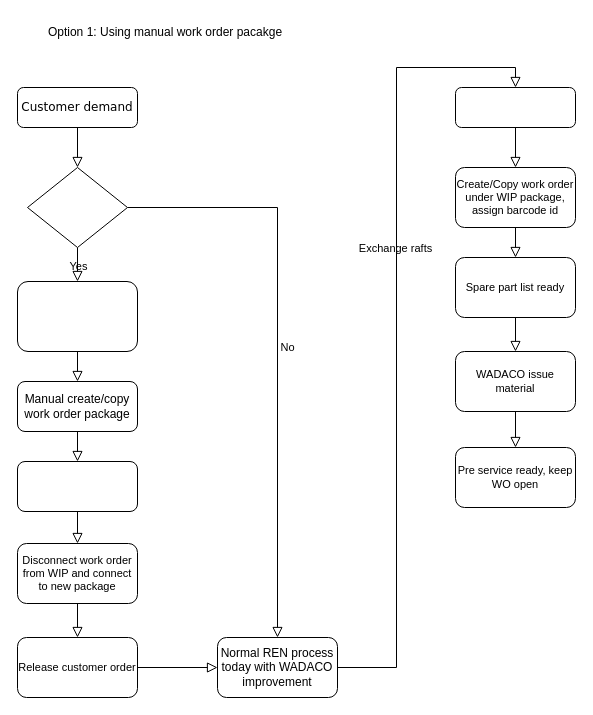
This 593x715 diagram has some shape labels left out. Here are the shapes that lost their labels. From the top down, the centre of each, then its label:
At point 515,107: "Returned Rafts".
At point 77,207: "Sufficent Pre service raft?".
At point 77,316: "open work orders selection by type/manufacturing date and barcode".
At point 77,486: "Change WIP work orders customer/order".
